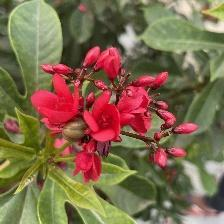jatropha: (32, 74, 82, 127), (87, 92, 123, 148), (121, 86, 153, 131), (74, 149, 108, 182), (105, 51, 122, 82)
